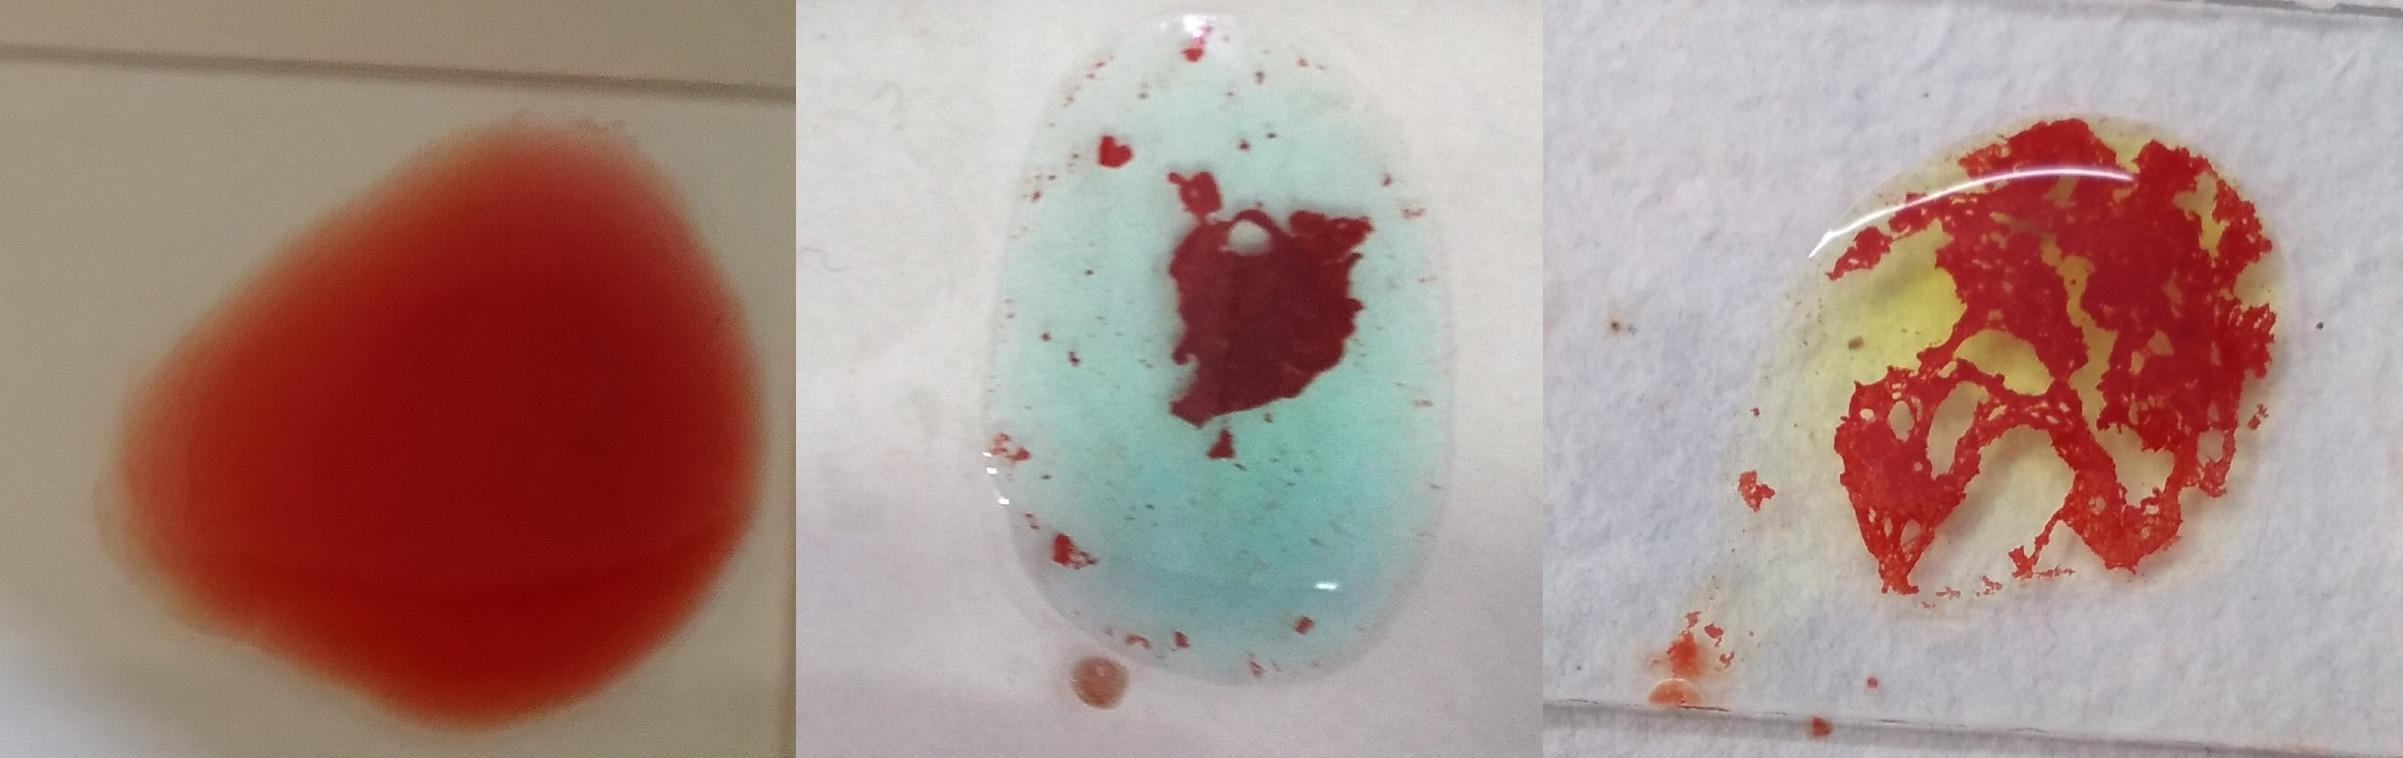A: (1010, 23, 1445, 672)
B: (1770, 100, 2297, 628)
